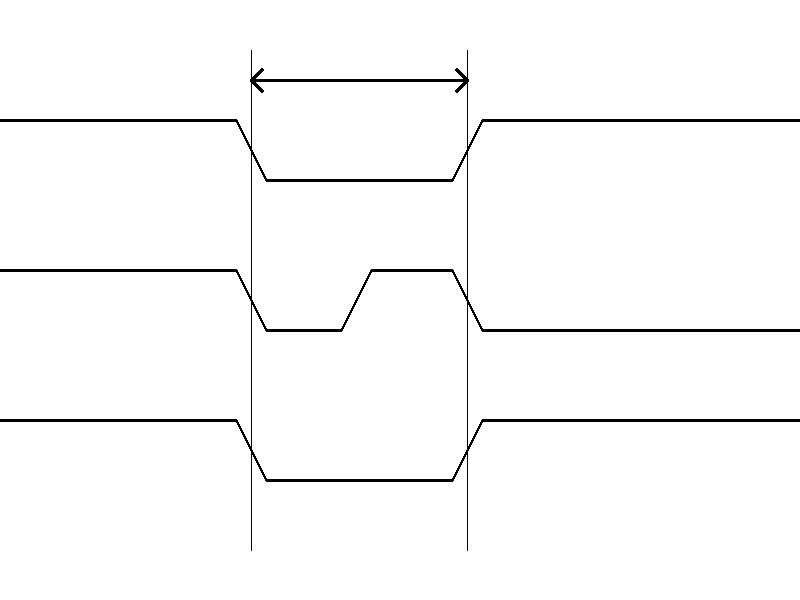double_arrow: (251, 65, 467, 95)
